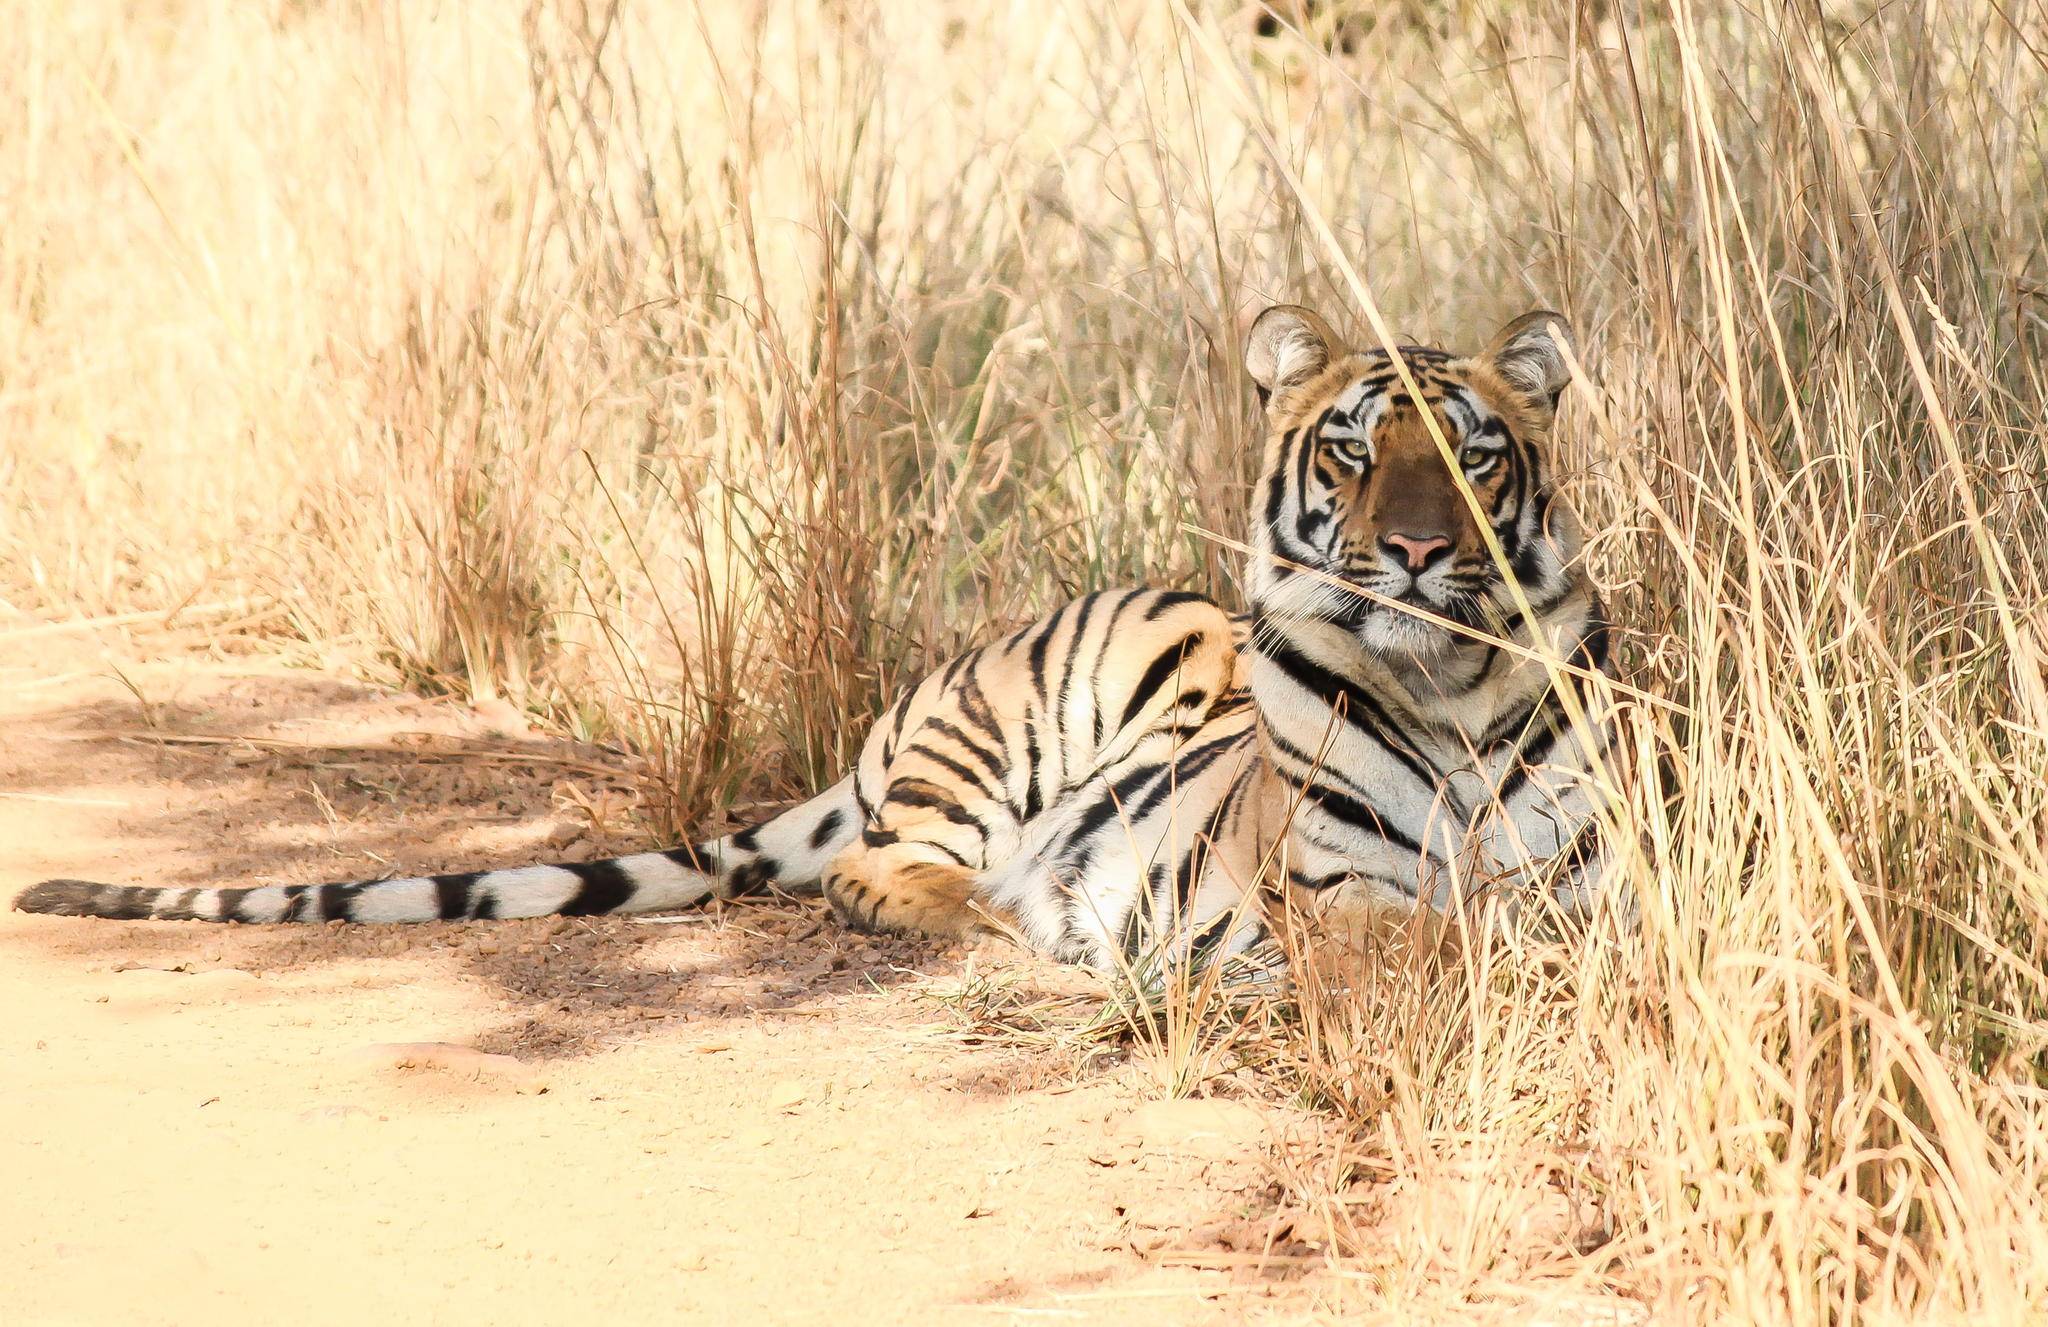tiger: (585, 307, 1649, 958)
